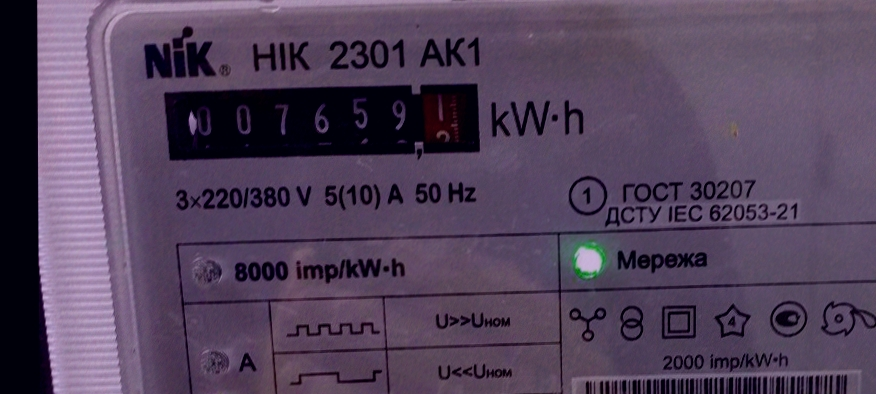0: (232, 101, 255, 138), (193, 101, 214, 140)
1: (432, 89, 448, 125)
5: (350, 94, 370, 131)
6: (310, 99, 332, 135)
7: (270, 100, 291, 138)
9: (388, 96, 409, 133)
screen: (155, 78, 489, 168)
